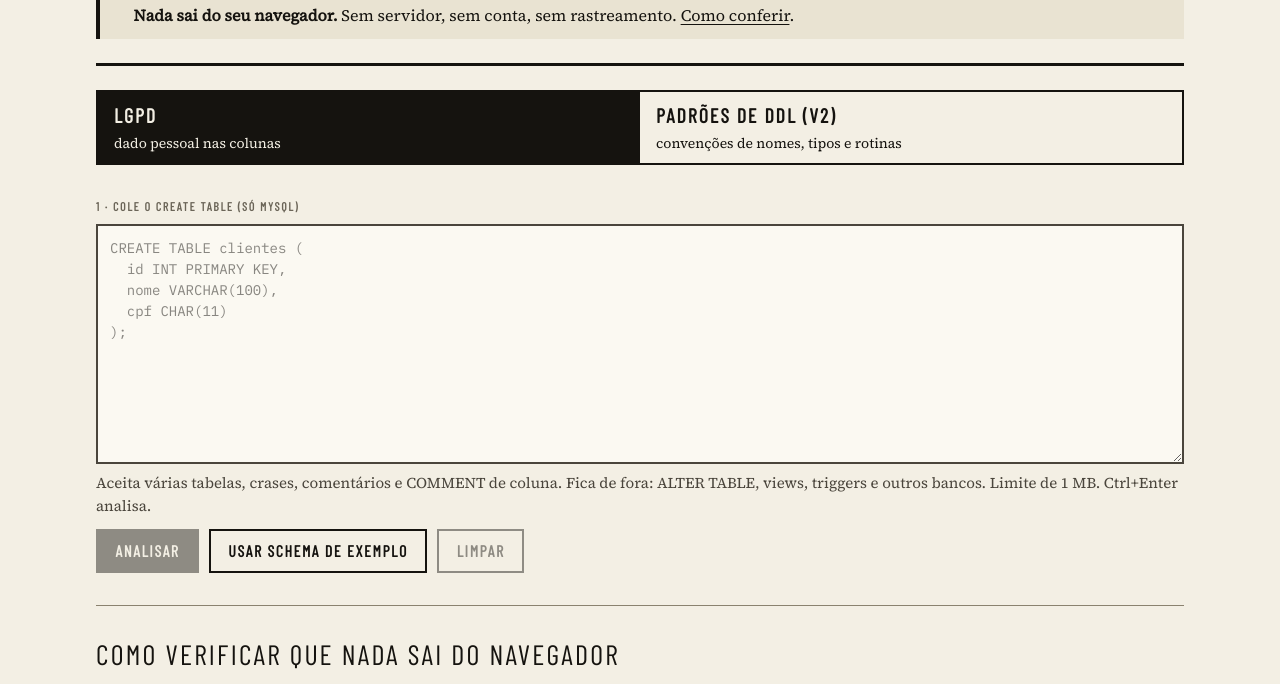
interface: entrada, limite e erro › texto sem CREATE TABLE diz isso com clareza
(page scrolled)
Replace the text in the text box with "SELECT 1;" at (640, 344), box [96,224,1184,464]
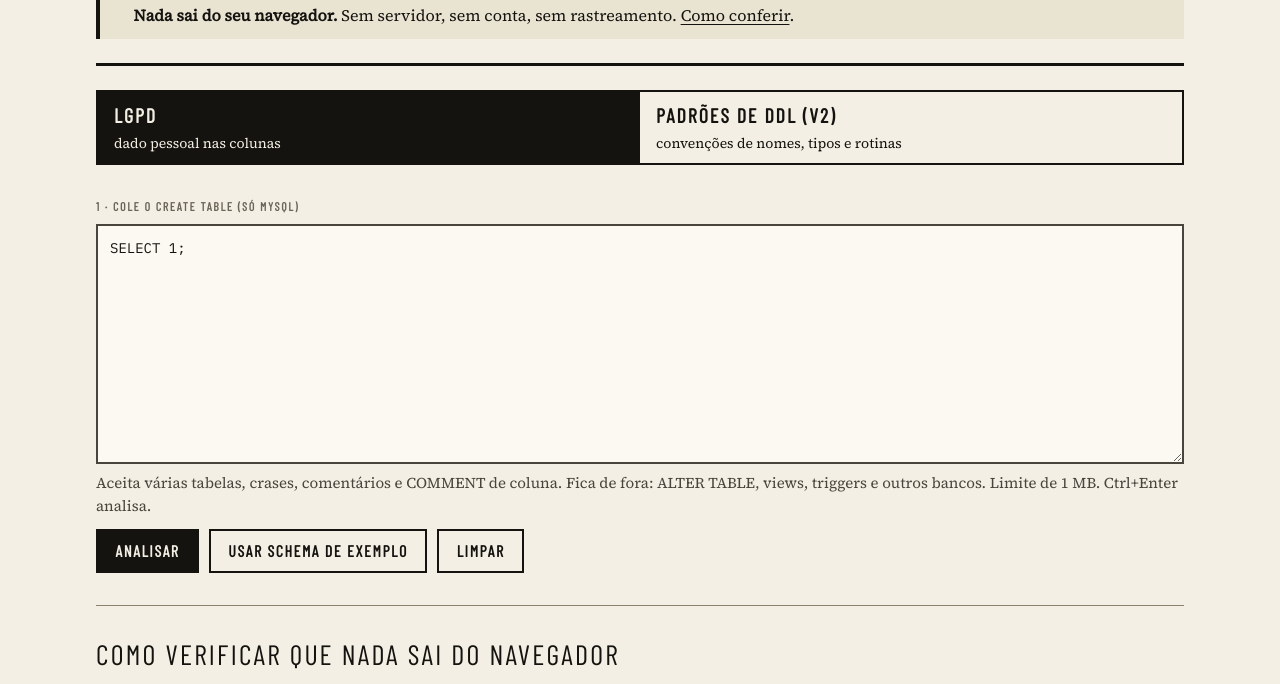
Click the button "Analisar".
click(148, 551)  # box [96,529,199,573]
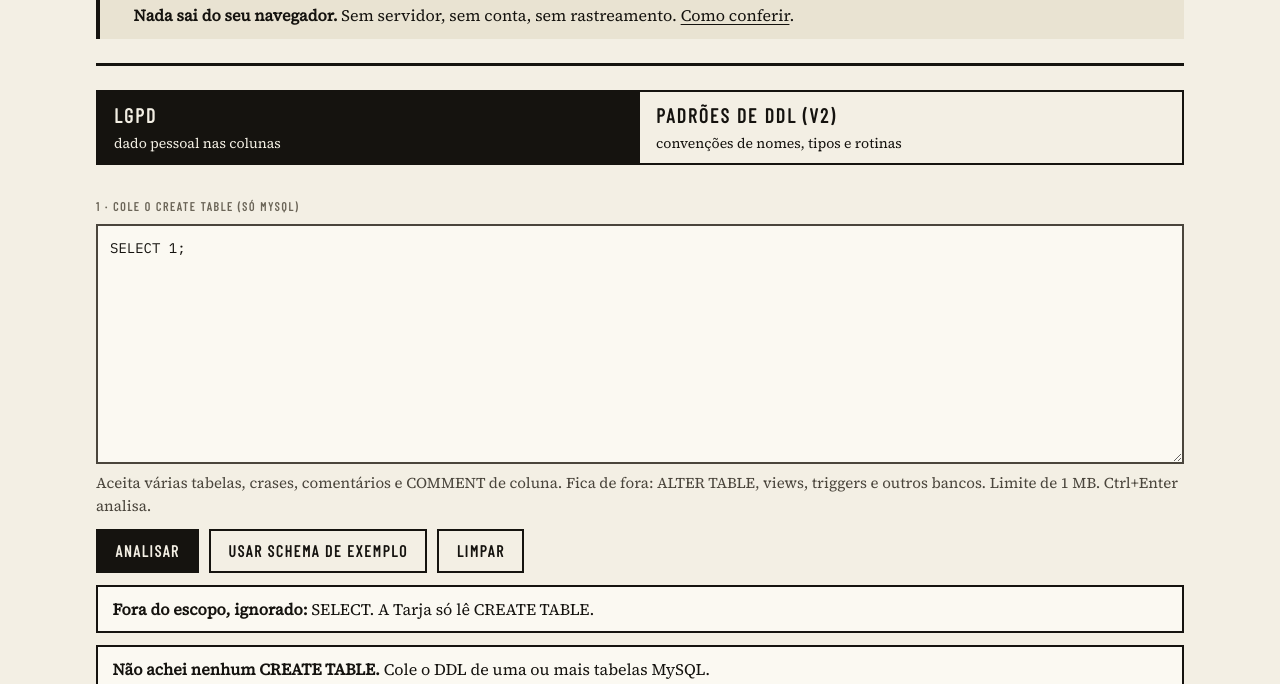
Check: the text "Não achei nenhum CREATE TABLE." is shown, box [112,658,380,680]
